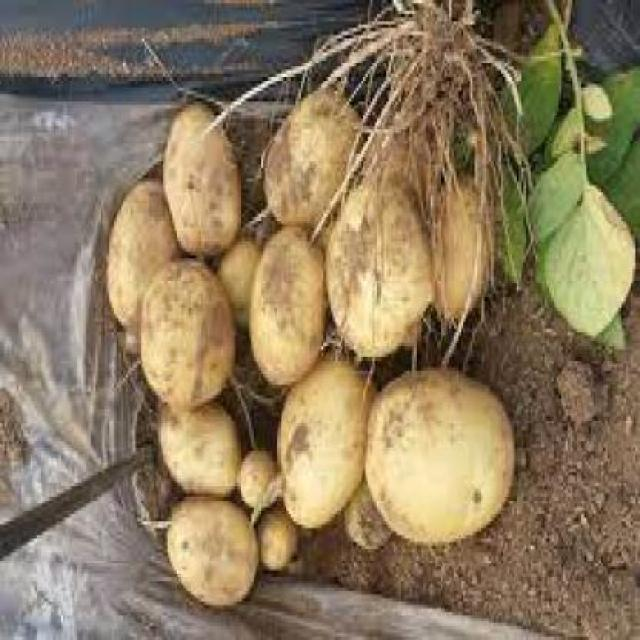potato: (358, 356, 524, 556), (272, 346, 371, 520)
